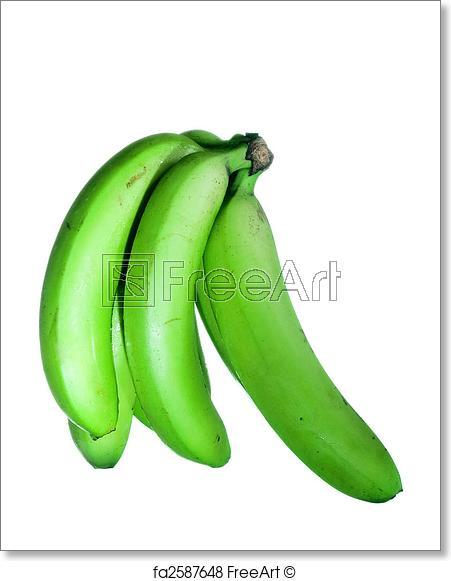Banana Unripe: (0, 73, 440, 527)
